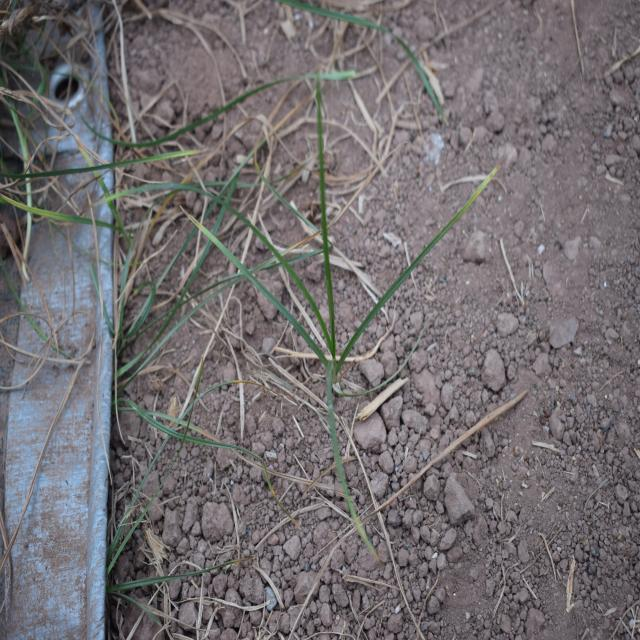sedge: (191, 96, 447, 517)
